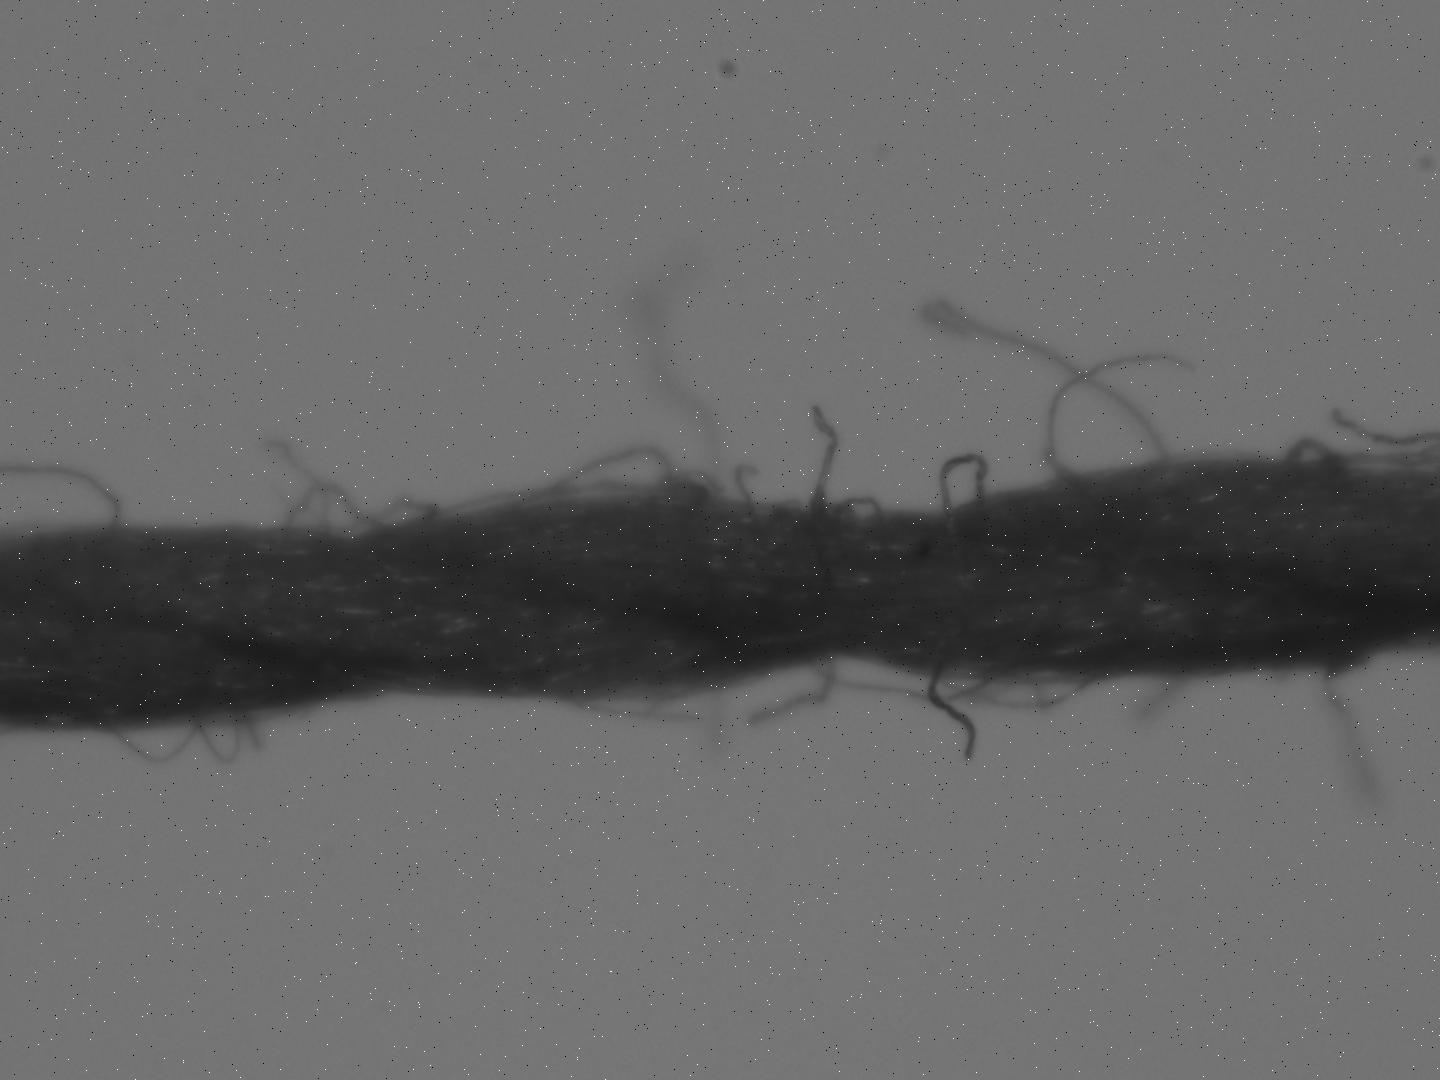loop_fiber: (274, 447, 722, 537), (805, 653, 1101, 711), (98, 700, 285, 769), (550, 675, 739, 726), (0, 461, 120, 537), (1278, 438, 1439, 476), (935, 454, 994, 517), (825, 495, 888, 521)
protruding_fiber: (918, 296, 1172, 474), (630, 256, 719, 506), (1040, 349, 1203, 484), (740, 643, 838, 734), (1318, 660, 1374, 804), (251, 439, 331, 539), (1337, 405, 1439, 478), (925, 659, 980, 773), (807, 410, 840, 520), (1135, 670, 1184, 724), (734, 459, 762, 518)
